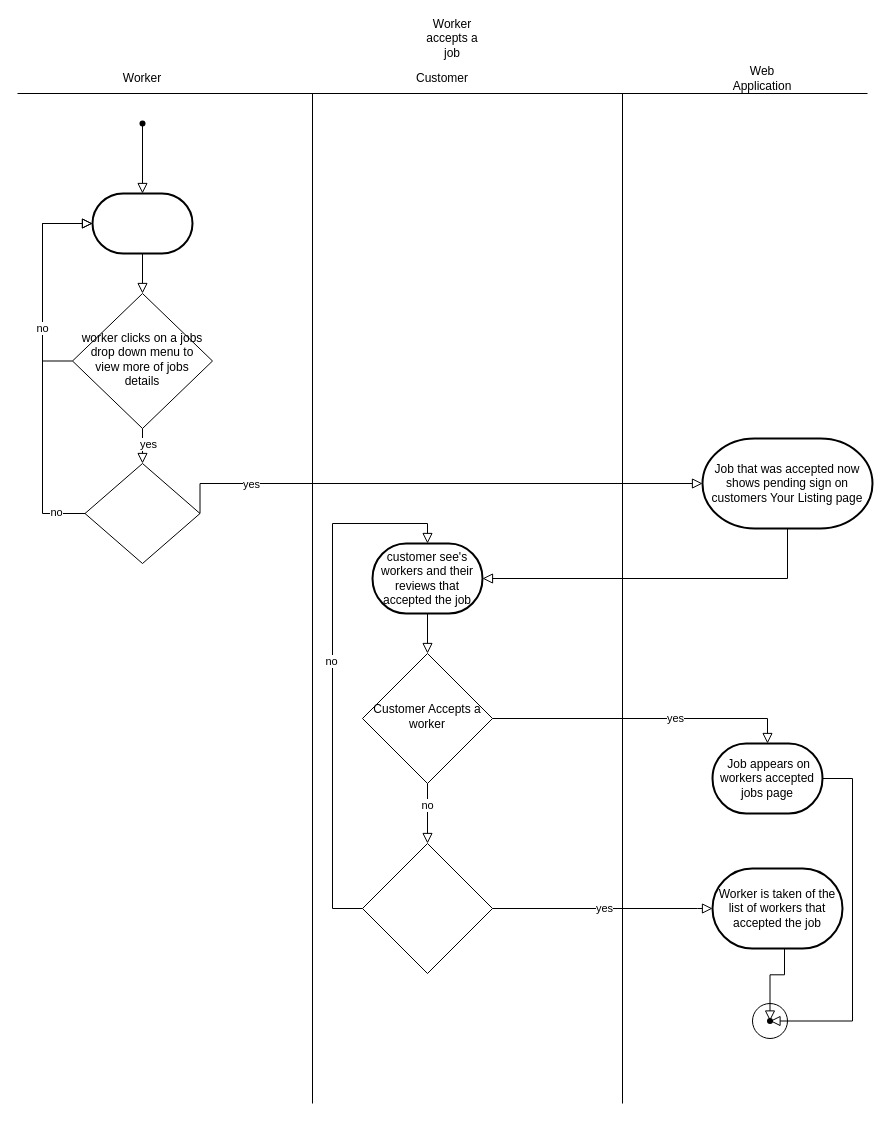
Some shapes in this 891 by 1122 pixel diagram are drawn without their labels. The box of each missing label's shape, as (x1, y1, x2, y2) in pixels:
Customer denies a worker: (362, 842, 492, 974)
worker clicks accept: (84, 462, 200, 564)
Worker is on public listings page: (91, 192, 193, 254)
